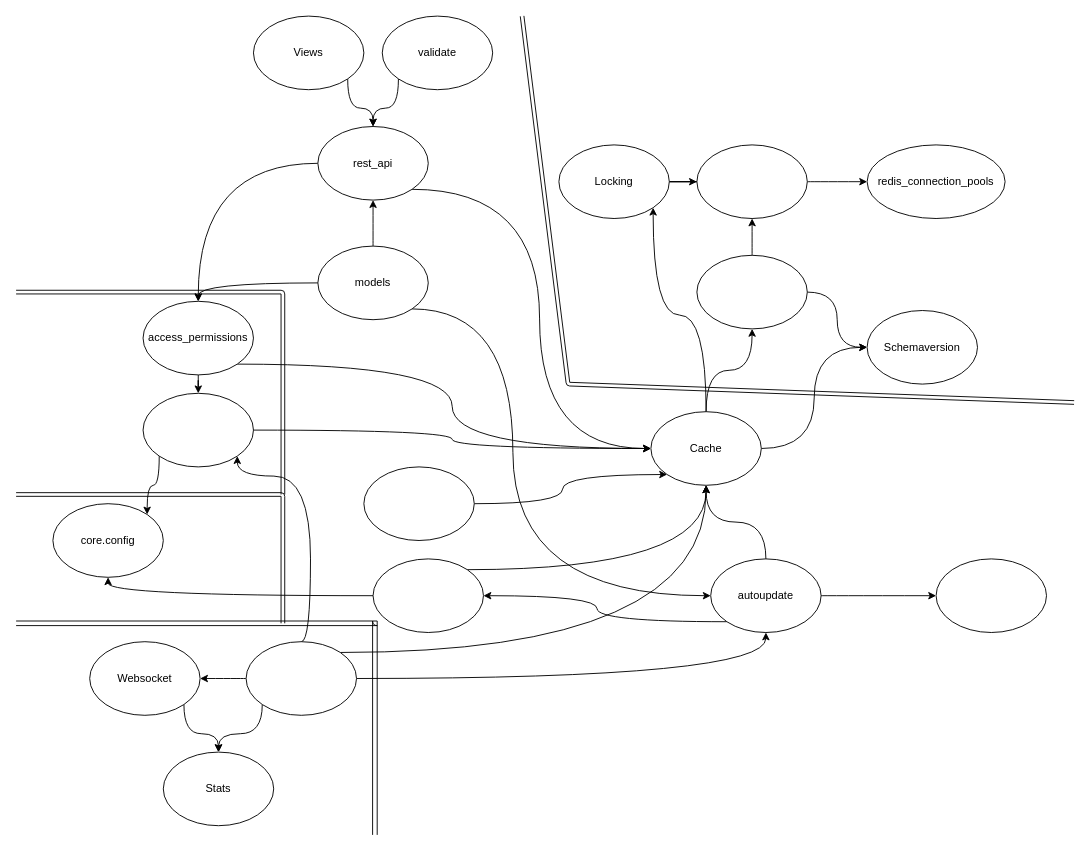
Some shapes in this 1091 by 852 pixel diagram are drawn without their labels. Each missing label, with the centre of its shape:
"auth" belongs at (x=197, y=429).
"Cacheprovider" belongs at (x=751, y=291).
"consumers" belongs at (x=300, y=678).
"core.models" belongs at (x=990, y=595).
"middleware" belongs at (x=418, y=503).
"Projector" belongs at (x=427, y=595).
"Redis" belongs at (x=751, y=181).
